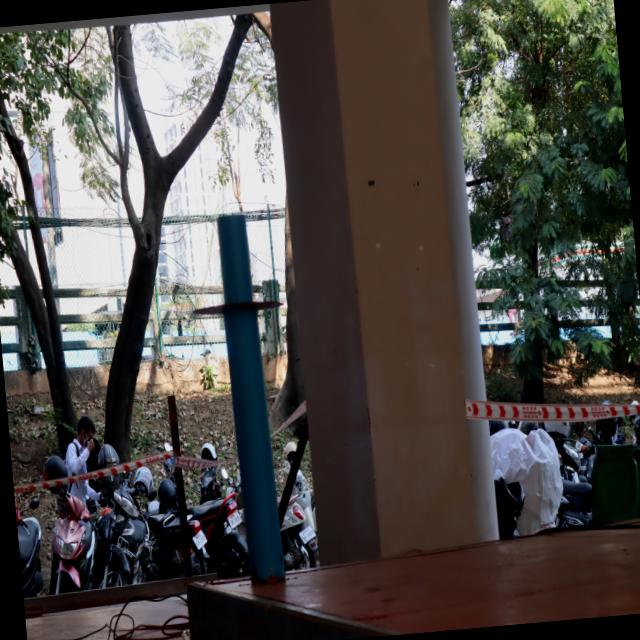pole: (188, 210, 298, 403)
